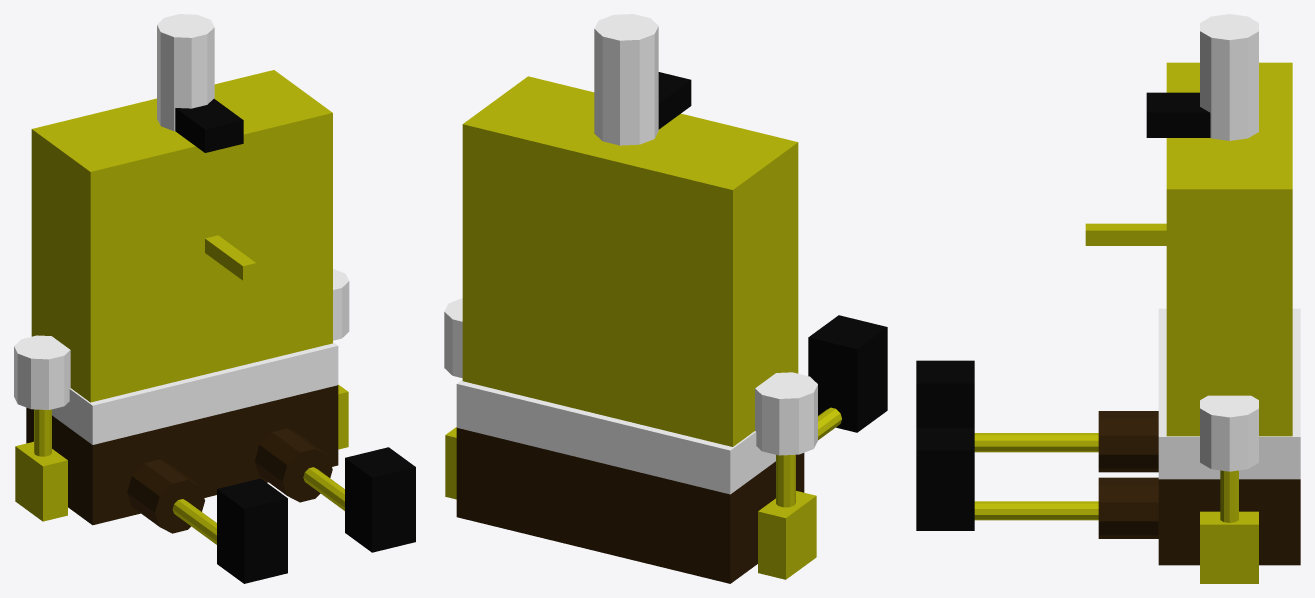
File: BobSponge.obj
3 renders of one model, left to right at view 1: azimuth 30°, elevation 25°; view 2: azimuth 150°, elevation 25°; view 3: azimuth 270°, elevation 25°, orthographic. The views are drawn at different scales.
Visible parts, largest first — view 1: pCube1 BobSponge, BobSponge pCube3, BobSponge pCube7, BobSponge pCube6, BobSponge pCylinder10, BobSponge pCylinder2, BobSponge pCylinder7, BobSponge pCylinder6, BobSponge pCube4, BobSponge pCube9, BobSponge pCube8, BobSponge pCylinder3 (+4 smaller); view 2: pCube1 BobSponge, BobSponge pCube3, BobSponge pCylinder10, BobSponge pCube6, BobSponge pCylinder2, BobSponge pCube4, BobSponge pCube9, BobSponge pCylinder3, BobSponge pCylinder4, BobSponge pCube5; view 3: pCube1 BobSponge, BobSponge pCube3, BobSponge pCylinder10, BobSponge pCube7, BobSponge pCylinder3, BobSponge pCube5, BobSponge pCube6, BobSponge pCylinder7, BobSponge pCylinder6, BobSponge pCube9, BobSponge pCylinder9, BobSponge pCylinder8 (+2 smaller).
Boxes of the visible parts, <box> form: pCube1 BobSponge: <box>31,70,332,402</box>; BobSponge pCube3: <box>26,342,338,525</box>; BobSponge pCube7: <box>345,447,415,552</box>; BobSponge pCube6: <box>217,478,287,583</box>; BobSponge pCylinder10: <box>157,14,214,131</box>; BobSponge pCylinder2: <box>14,335,70,409</box>; BobSponge pCylinder7: <box>254,428,332,502</box>; BobSponge pCylinder6: <box>127,459,204,533</box>; BobSponge pCube4: <box>15,441,67,521</box>; BobSponge pCube9: <box>175,99,243,152</box>; BobSponge pCube8: <box>205,235,256,280</box>; BobSponge pCylinder3: <box>333,269,349,340</box>; pCube1 BobSponge: <box>462,76,798,446</box>; BobSponge pCube3: <box>456,379,804,583</box>; BobSponge pCylinder10: <box>594,14,658,145</box>; BobSponge pCube6: <box>808,315,887,432</box>; BobSponge pCylinder2: <box>755,372,817,455</box>; BobSponge pCube4: <box>758,491,816,579</box>; BobSponge pCube9: <box>658,72,691,129</box>; BobSponge pCylinder3: <box>444,298,462,378</box>; BobSponge pCylinder4: <box>776,454,795,507</box>; BobSponge pCube5: <box>445,427,456,499</box>; pCube1 BobSponge: <box>1166,62,1292,436</box>; BobSponge pCube3: <box>1158,308,1300,565</box>; BobSponge pCylinder10: <box>1200,14,1258,140</box>; BobSponge pCube7: <box>916,427,974,530</box>; BobSponge pCylinder3: <box>1200,395,1258,471</box>; BobSponge pCube5: <box>1200,511,1258,583</box>; BobSponge pCube6: <box>916,360,974,427</box>; BobSponge pCylinder7: <box>1098,477,1158,538</box>; BobSponge pCylinder6: <box>1098,411,1158,472</box>; BobSponge pCube9: <box>1146,92,1210,137</box>; BobSponge pCylinder9: <box>974,501,1098,520</box>; BobSponge pCylinder8: <box>974,433,1098,452</box>.
Bounding box in the file's own units: 3.43 × 4.48 × 3.26.
